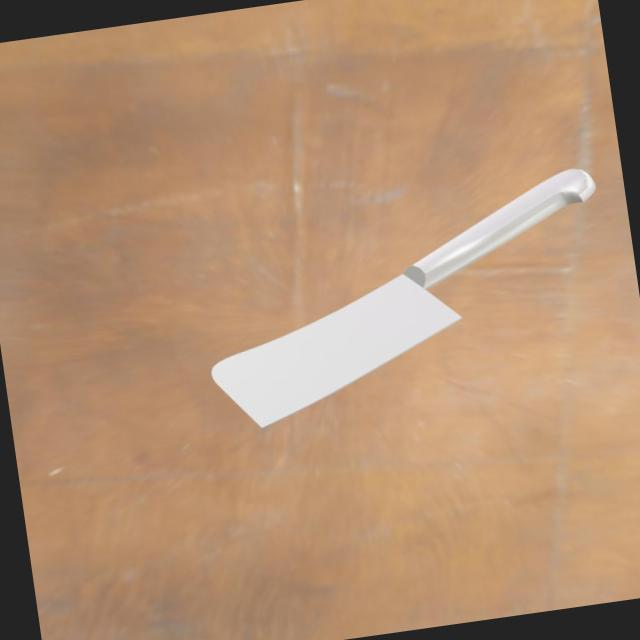knife: (396, 158, 618, 290)
